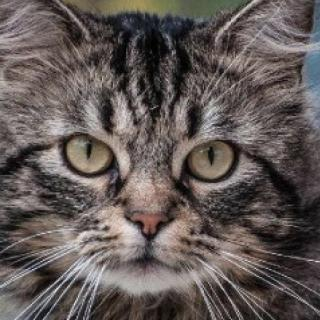cat: (0, 0, 319, 298)
nose: (120, 172, 182, 242)
